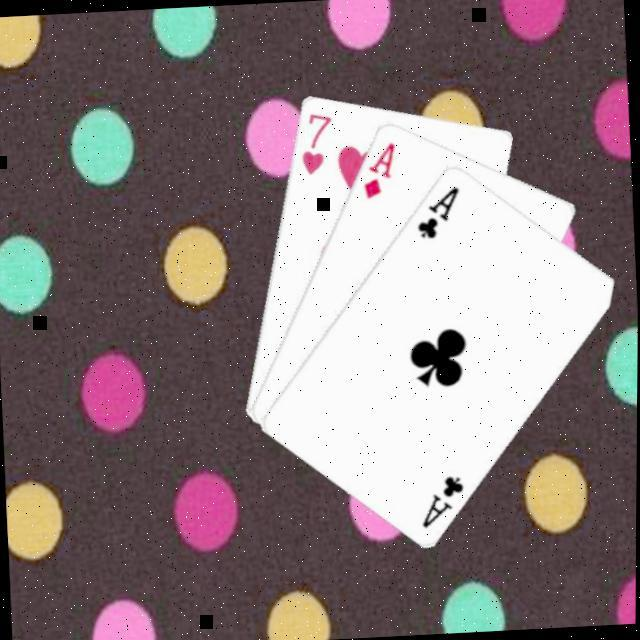7H: (296, 110, 338, 180)
AC: (416, 471, 471, 532), (413, 182, 467, 244)
AD: (360, 138, 402, 202)
